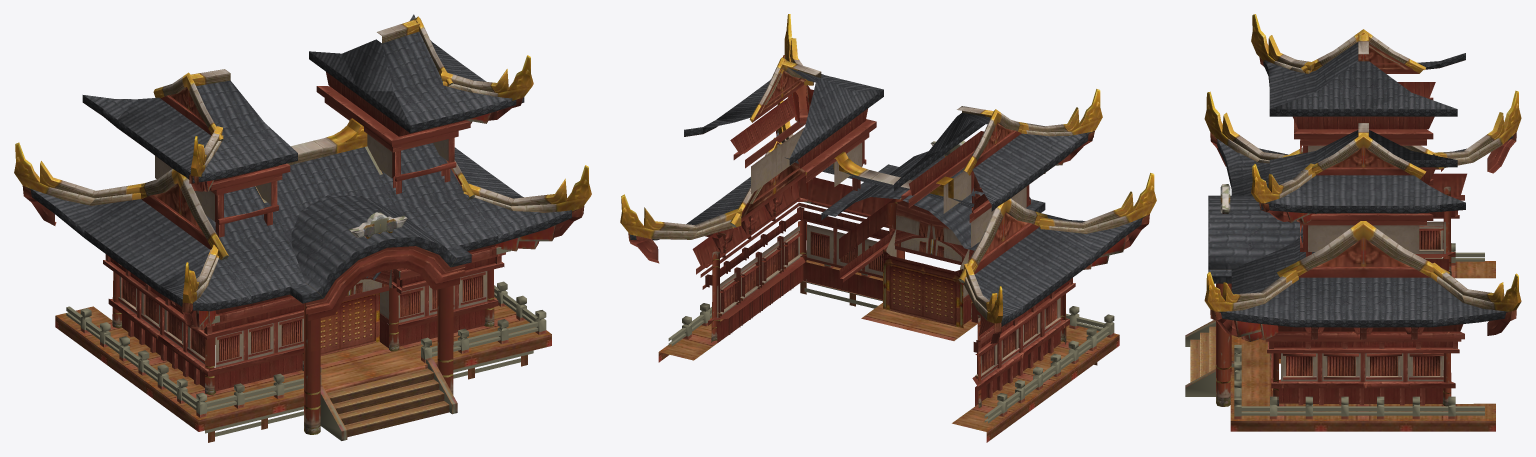
File: City_bujian_01.fbx
The picture shows the model from 3 angles, left to right: view 1: azimuth 30°, elevation 25°; view 2: azimuth 150°, elevation 25°; view 3: azimuth 270°, elevation 25°; orthographic projection. The views are drawn at different scales.
Visible parts, largest first — view 1: City_1_2017_3_7_2:City_1_2017_3_7_2:City_1_2017_3_7:CIty_3_6; view 2: City_1_2017_3_7_2:City_1_2017_3_7_2:City_1_2017_3_7:CIty_3_6; view 3: City_1_2017_3_7_2:City_1_2017_3_7_2:City_1_2017_3_7:CIty_3_6.
Part boxes in pixels (x1,y1,x2,y2): City_1_2017_3_7_2:City_1_2017_3_7_2:City_1_2017_3_7:CIty_3_6: (14,14,591,442); City_1_2017_3_7_2:City_1_2017_3_7_2:City_1_2017_3_7:CIty_3_6: (620,14,1156,442); City_1_2017_3_7_2:City_1_2017_3_7_2:City_1_2017_3_7:CIty_3_6: (1185,14,1521,431).
Size of the model in its own units: 17.47 by 12.79 by 13.31.
